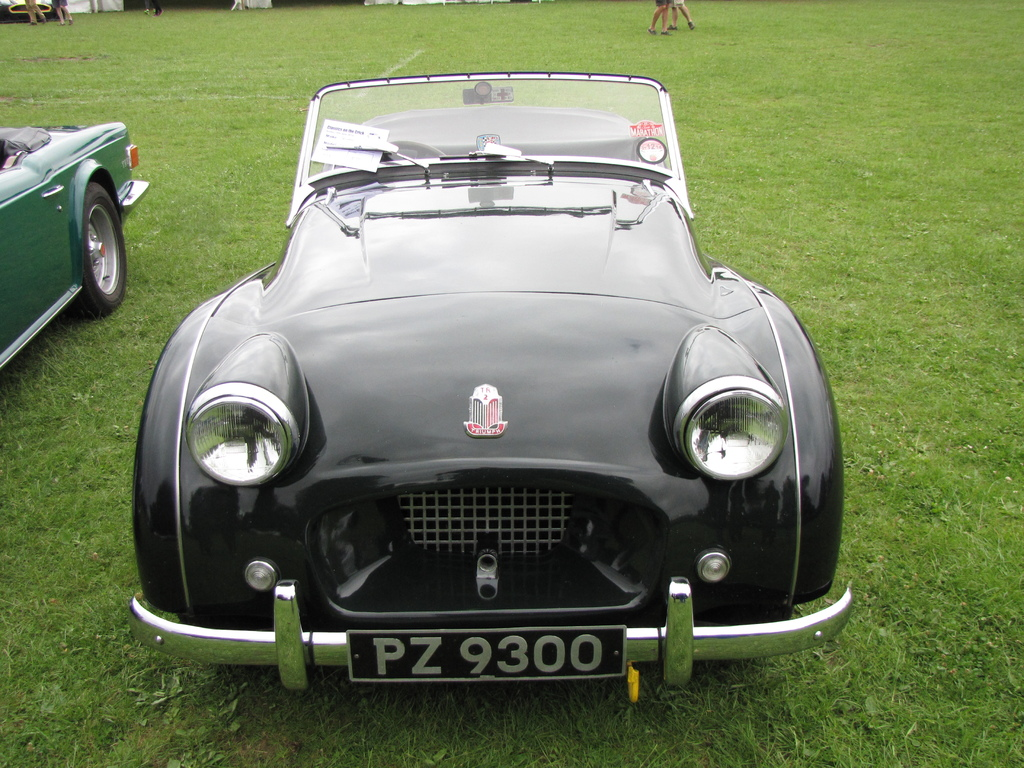person: (646, 0, 696, 36)
